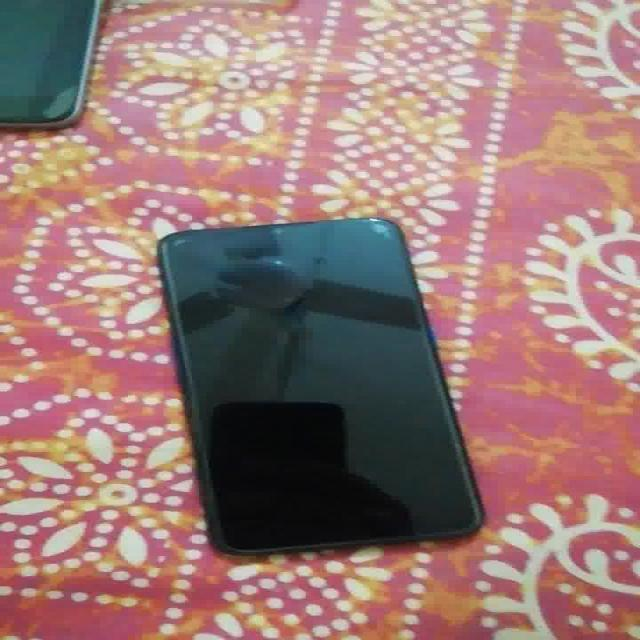phone: (160, 213, 476, 541), (3, 1, 101, 122)
